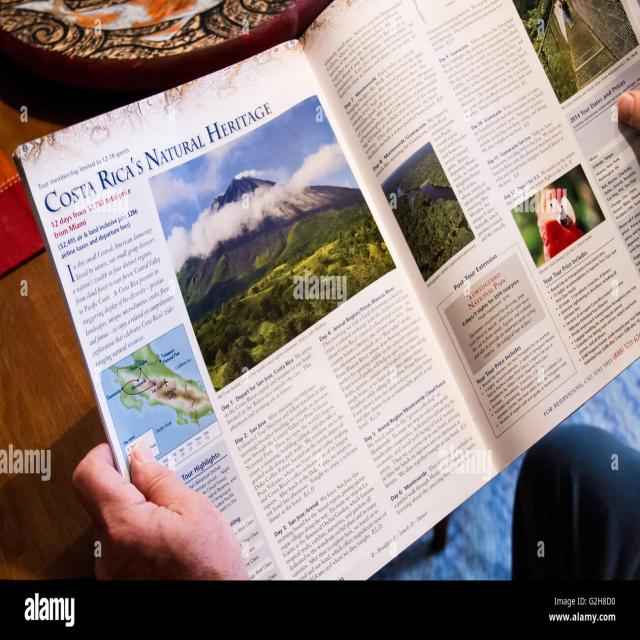paper: (29, 0, 640, 583)
